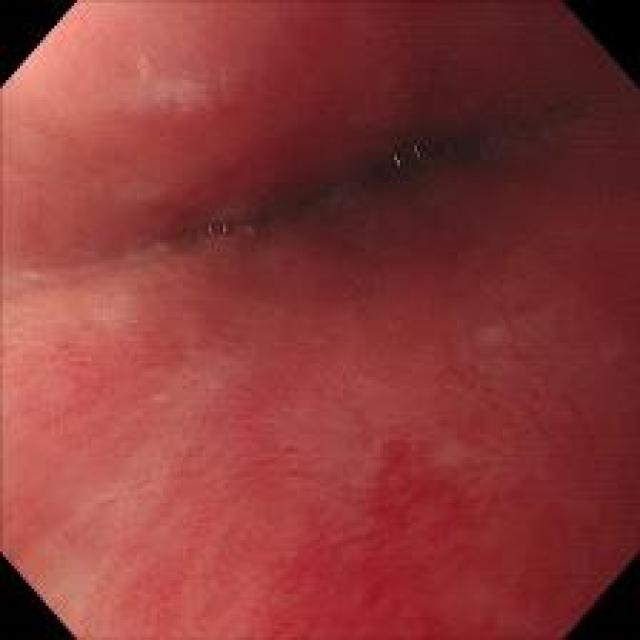blur: (2, 5, 636, 631)
bubbles: (460, 112, 516, 170), (194, 214, 239, 241), (386, 144, 430, 171), (436, 142, 461, 164), (136, 55, 154, 80)
color misalignment: (384, 148, 428, 170)
